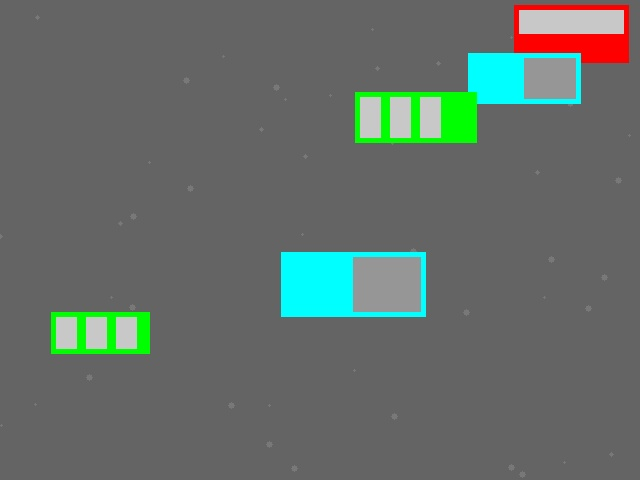bus: (355, 92, 476, 142), (51, 312, 149, 353)
car: (514, 5, 628, 62)
truck: (281, 252, 425, 316), (468, 53, 580, 103)
